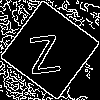Z: (25, 25, 62, 75)
